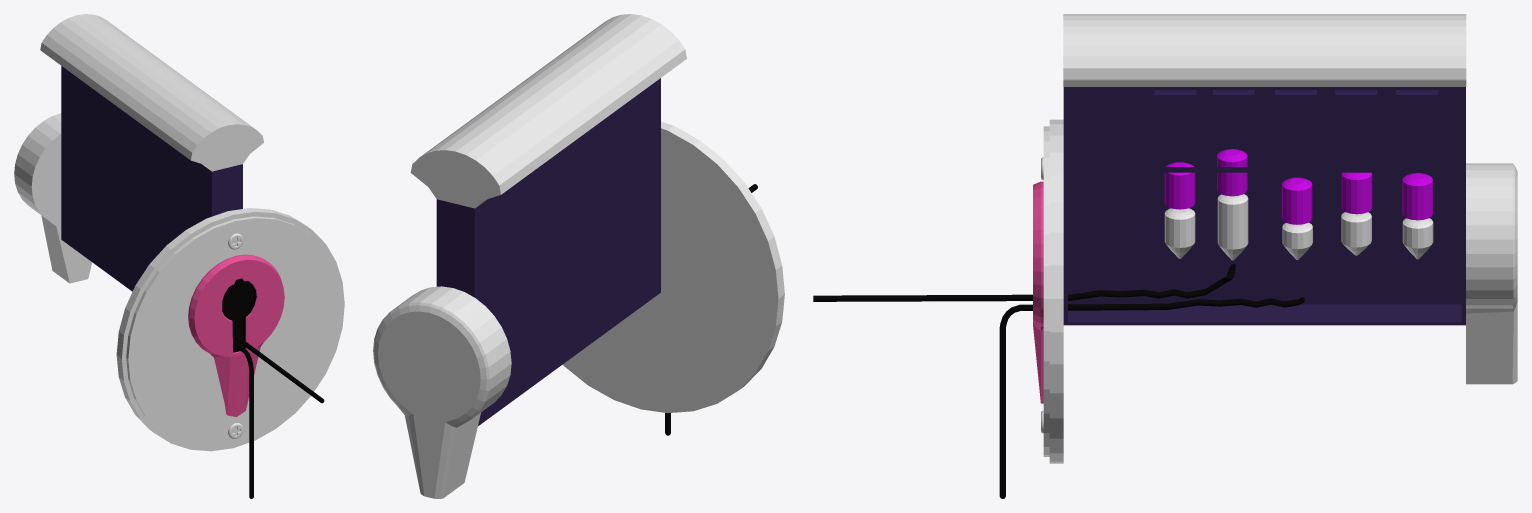
The model's file is LockPins.fbx.
3 views of the same model, side by side, from view 1: azimuth 30°, elevation 25°; view 2: azimuth 150°, elevation 25°; view 3: azimuth 270°, elevation 25° (orthographic). The views are drawn at different scales.
Parts seen in each view (by area): view 1: anahtarlık, yuva, anahtar üstü, anahtar silüet, anahtar arkalık, anahtarlık2, tel toka iki, te toka 1; view 2: yuva, anahtarlık2, anahtar üstü, anahtar arkalık; view 3: yuva, anahtar üstü, anahtar arkalık, anahtarlık2, tel toka iki, te toka 1, anahtarlık, anahtar silüet, 2sivri, 3, 5, 1sivri (+6 smaller).
Part boxes in pixels (x1,y1,x2,y2): anahtarlık: [126, 216, 342, 448]; yuva: [61, 66, 242, 291]; anahtar üstü: [40, 14, 263, 171]; anahtar silüet: [188, 254, 284, 416]; anahtar arkalık: [14, 113, 92, 283]; anahtarlık2: [116, 208, 344, 451]; tel toka iki: [235, 343, 253, 498]; te toka 1: [235, 336, 324, 403]; yuva: [436, 78, 660, 425]; anahtarlık2: [563, 121, 784, 413]; anahtar üstü: [410, 14, 686, 208]; anahtar arkalık: [373, 286, 511, 498]; yuva: [1063, 87, 1465, 325]; anahtar üstü: [1063, 14, 1466, 86]; anahtar arkalık: [1466, 163, 1517, 384]; anahtarlık2: [1049, 119, 1063, 463]; tel toka iki: [999, 297, 1304, 498]; te toka 1: [813, 264, 1235, 301]; anahtarlık: [1043, 126, 1049, 456]; anahtar silüet: [1033, 181, 1043, 403]; 2sivri: [1217, 194, 1248, 260]; 3: [1281, 177, 1312, 224]; 5: [1402, 173, 1432, 220]; 1sivri: [1164, 208, 1195, 258].
Bounding box in the file's own units: 208 × 318 × 426.
